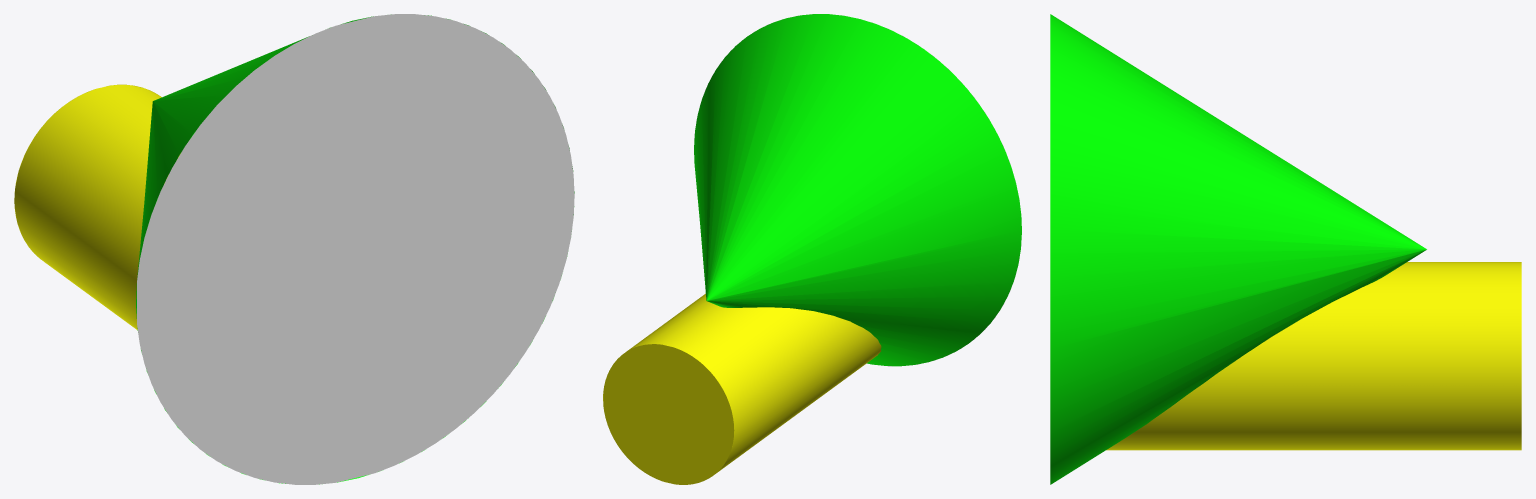
The model's file is yuanzhu_yuanzhui_xiangguan.FBX.
3 views of the same model, side by side, from view 1: azimuth 30°, elevation 25°; view 2: azimuth 150°, elevation 25°; view 3: azimuth 270°, elevation 25° (orthographic). The views are drawn at different scales.
Parts seen in each view (by area): view 1: TRM_SRF (×5); view 2: TRM_SRF (×5); view 3: TRM_SRF (×4).
Boxes of the visible parts, box(x1,y1,x2,y2) form: TRM_SRF (×5): box(14, 14, 574, 484); TRM_SRF (×5): box(603, 14, 1021, 484); TRM_SRF (×4): box(1050, 14, 1521, 484).
Bounding box in the file's own units: 39.37 × 39.37 × 39.37.
